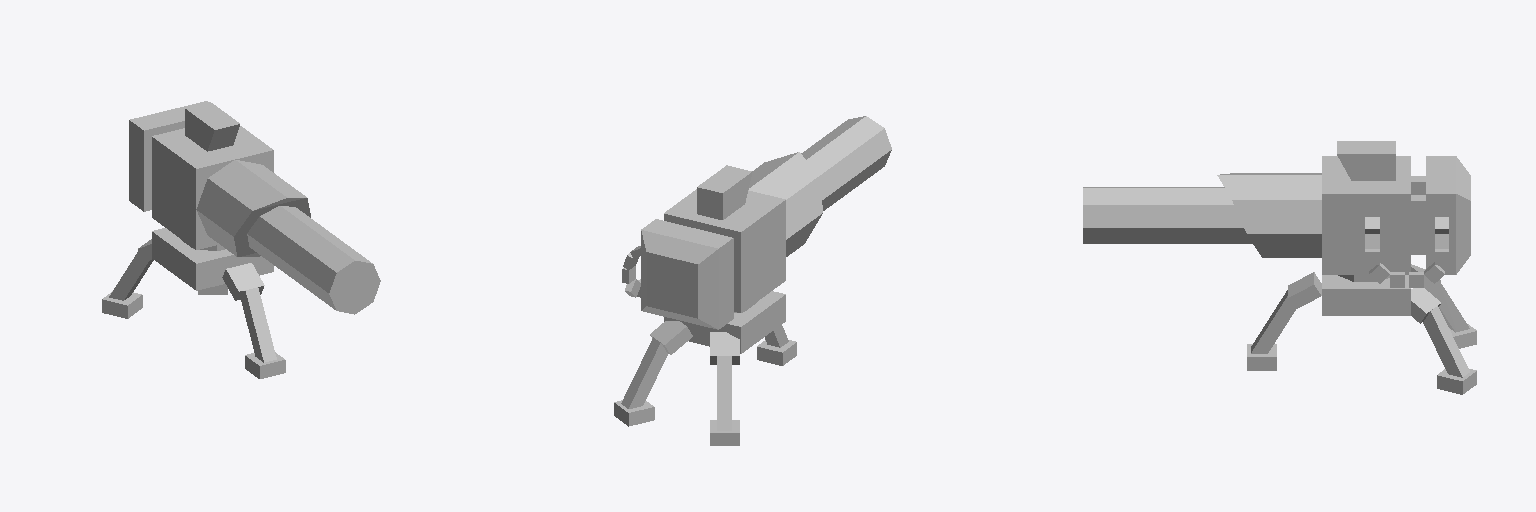
Rendered from turretMinigun.obj.
The picture shows the model from 3 angles: view 1: azimuth 30°, elevation 25°; view 2: azimuth 150°, elevation 25°; view 3: azimuth 270°, elevation 25°; orthographic projection.
Parts seen in each view (by area): view 1: group_1, group_3, group_4, group_5, group_8, Component_8, group_6, Component_9, Component_7; view 2: group_8, group_3, group_1, group_4, Component_8, group_5, group_6, Component_9, Component_7, Component_6; view 3: group_1, group_3, group_4, group_8, Component_8, group_5, Component_6, group_6, Component_7, Component_9, Component_5.
Part boxes in pixels (x1,y1,x2,y2): group_1: (247, 206, 380, 314); group_3: (152, 126, 273, 249); group_4: (196, 160, 310, 256); group_5: (152, 228, 273, 290); group_8: (129, 101, 208, 211); Component_8: (109, 251, 276, 362); group_6: (185, 102, 239, 151); Component_9: (102, 284, 285, 378); Component_7: (138, 239, 264, 300); group_8: (641, 219, 733, 329); group_3: (664, 189, 785, 312); group_1: (801, 116, 891, 210); group_4: (749, 152, 822, 256); Component_8: (621, 325, 788, 430); group_5: (664, 291, 785, 353); group_6: (697, 165, 751, 219); Component_9: (614, 340, 796, 445); Component_7: (650, 321, 739, 364); Component_6: (622, 246, 640, 297); group_1: (1083, 187, 1252, 243); group_3: (1322, 156, 1410, 274); group_4: (1217, 173, 1321, 257); group_8: (1426, 156, 1470, 274); Component_8: (1251, 283, 1469, 377); group_5: (1322, 275, 1410, 315); Component_6: (1365, 217, 1448, 287); group_6: (1337, 141, 1395, 180); Component_7: (1288, 264, 1440, 323); Component_9: (1247, 324, 1476, 394); Component_5: (1411, 176, 1425, 254).
Size of the model in its own units: 0.6083 by 0.9993 by 1.65.